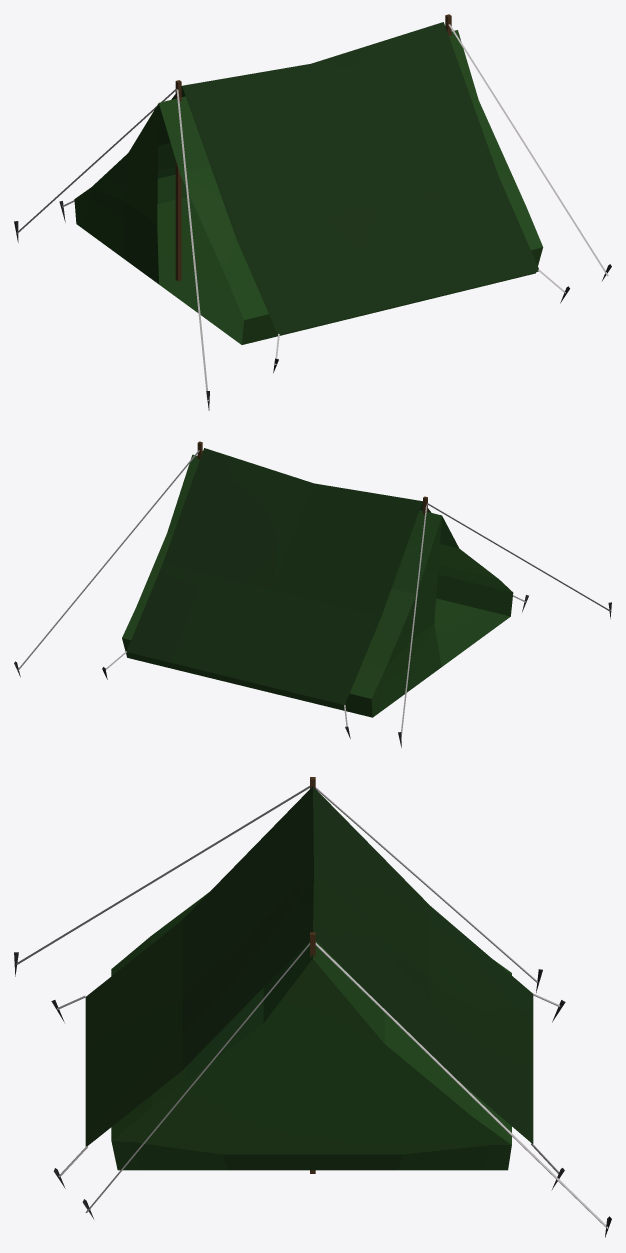
File: TentGreen.fbx
The picture shows the model from 3 angles, top to bottom: view 1: azimuth 30°, elevation 25°; view 2: azimuth 150°, elevation 25°; view 3: azimuth 270°, elevation 25°; orthographic projection. The views are drawn at different scales.
Visible parts, largest first — view 1: Tent; view 2: Tent; view 3: Tent.
Boxes of the visible parts, x1,y1,x2,y2 form: Tent: (14, 14, 611, 410); Tent: (14, 441, 611, 747); Tent: (14, 777, 611, 1237).
Bounding box in the file's own units: 404 × 180 × 382.
1 material, 1 textured.
